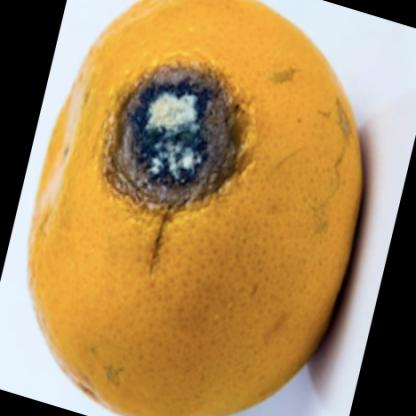rotten: (31, 3, 366, 416)
